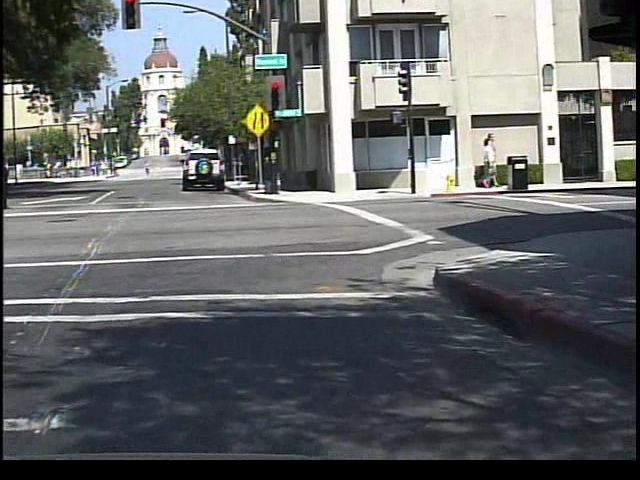person: (3, 170, 30, 229), (4, 157, 24, 213), (144, 161, 154, 179)
